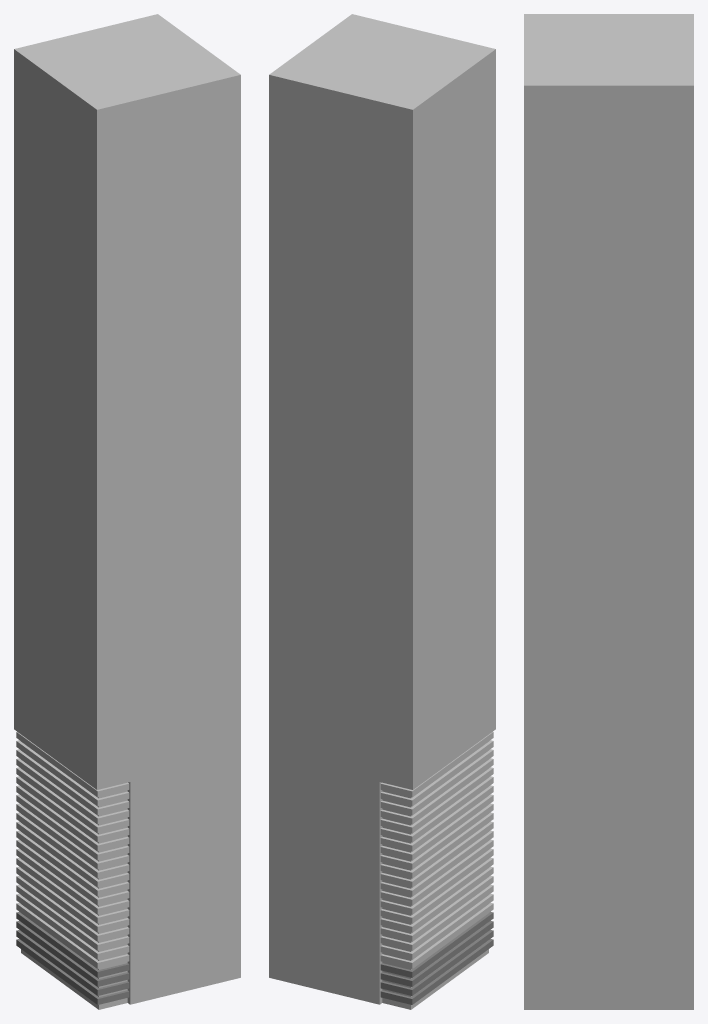
File: SM_Pillar_Mall_01_Bottom.fbx
The picture shows the model from 3 angles, left to right: view 1: azimuth 30°, elevation 25°; view 2: azimuth 150°, elevation 25°; view 3: azimuth 270°, elevation 25°; orthographic projection. The views are drawn at different scales.
Visible parts, largest first — view 1: SM_Pillar_Mall_01_Bottom_LOD0; view 2: SM_Pillar_Mall_01_Bottom_LOD0; view 3: SM_Pillar_Mall_01_Bottom_LOD0.
Part boxes in pixels (x1,y1,x2,y2): SM_Pillar_Mall_01_Bottom_LOD0: (14,14,240,1009); SM_Pillar_Mall_01_Bottom_LOD0: (269,14,495,1009); SM_Pillar_Mall_01_Bottom_LOD0: (524,14,693,1009).
Bounding box in the file's own units: 100 × 100 × 600.
